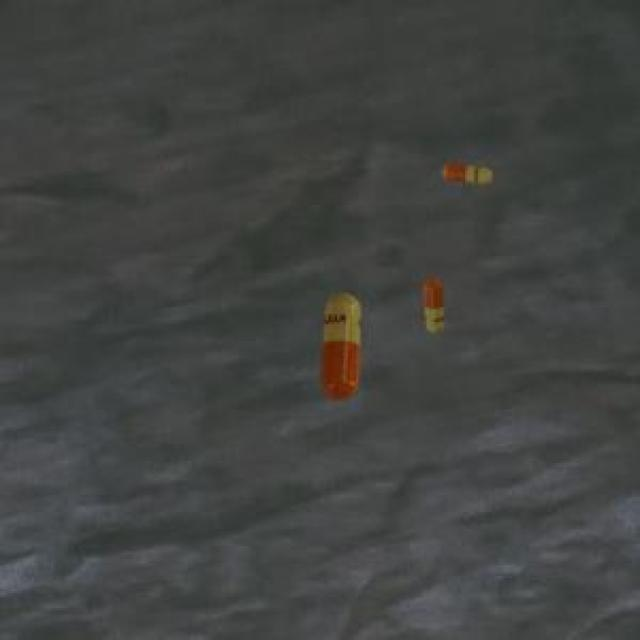Alaxan: (307, 278, 372, 405), (416, 268, 458, 342), (440, 148, 499, 192)
